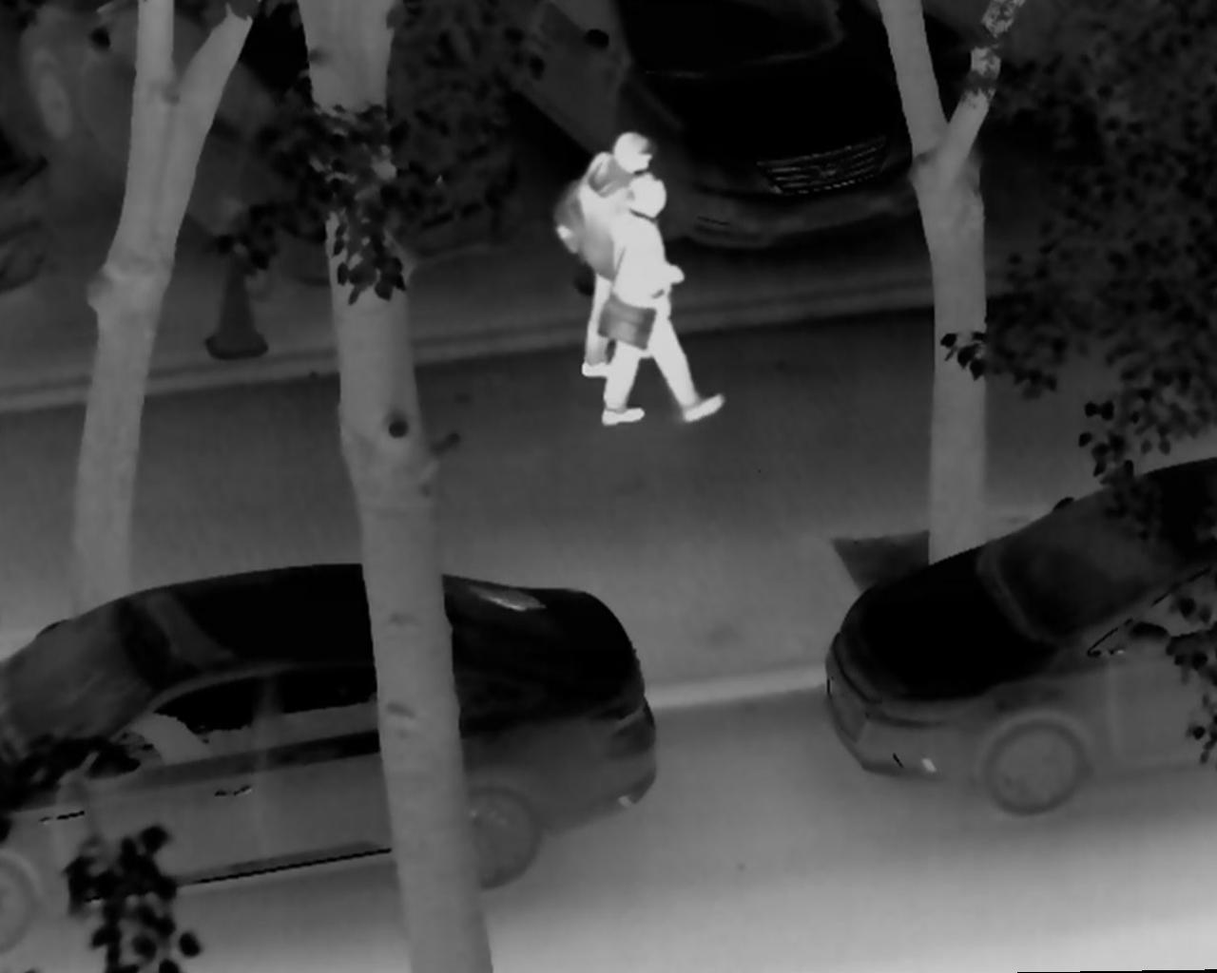person: (597, 171, 725, 425), (552, 128, 668, 377)
